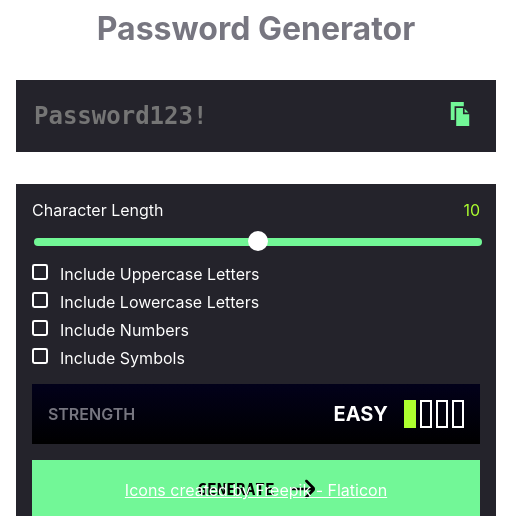
Scenario: Testing slider › slider value and the display value are synced
Set the slider to "15": (474, 242) [34, 238, 482, 246]
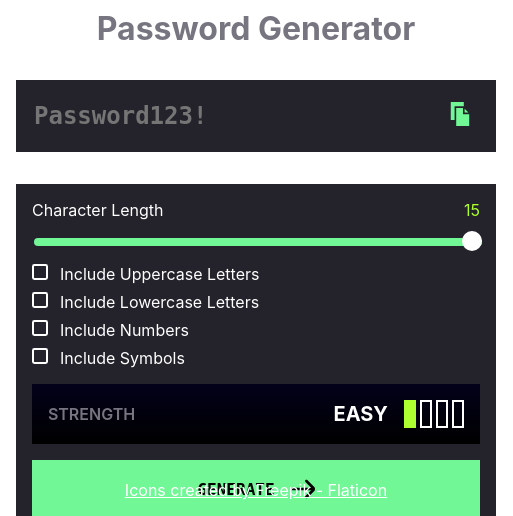
expect the text "10" reads "15": met, box [464, 200, 480, 220]
Set the slider to "8": (172, 242) [34, 238, 482, 246]
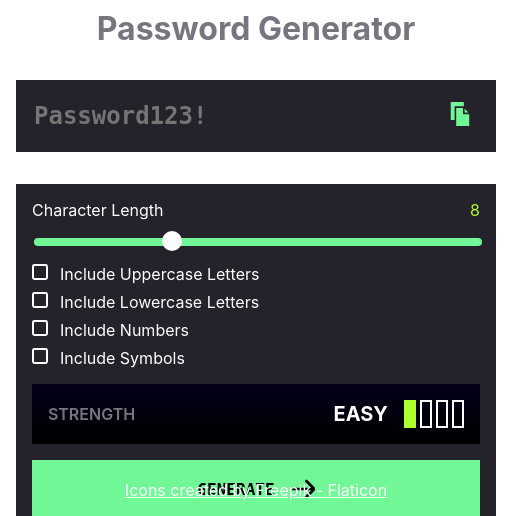
expect the text "10" reads "8": met, box [470, 200, 480, 220]
